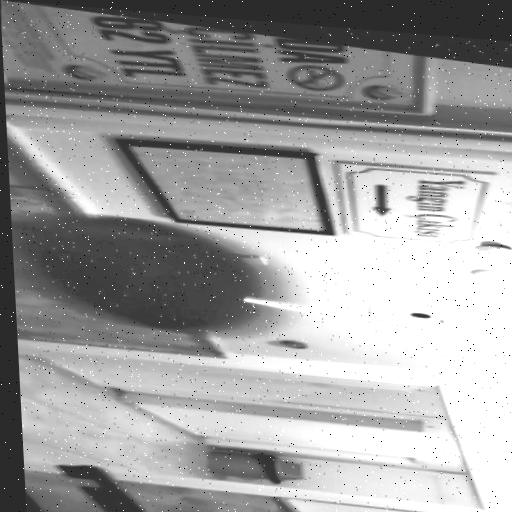balloon: (10, 193, 301, 353)
